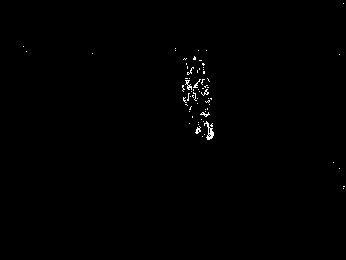person: (197, 76, 218, 142), (182, 73, 201, 136)
